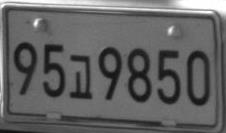0: (185, 49, 210, 105)
5: (156, 49, 181, 104), (42, 44, 65, 97)
8: (126, 46, 152, 103)
9: (97, 45, 122, 100), (12, 41, 37, 95)
고: (68, 54, 92, 99)
